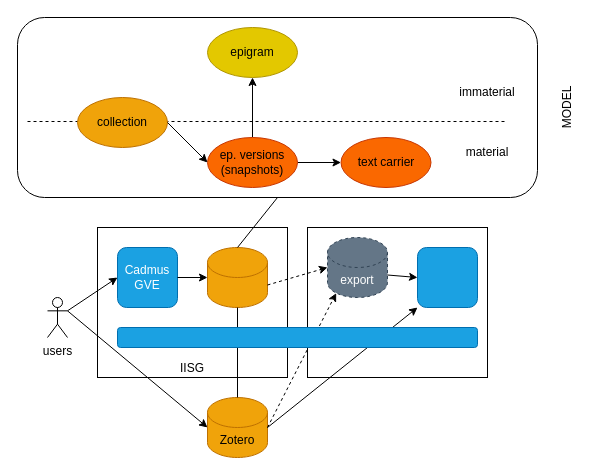
The diagram is 600 pixels wide and 475 high, and some of its shapes have lost their labels. The box of each missing label's shape, as (x1, y1, x2, y2) in pixels:
Docker: (116, 326, 478, 348)
frontend: (416, 246, 478, 308)
GVE: (206, 246, 268, 308)
institutional server: (306, 226, 488, 378)
